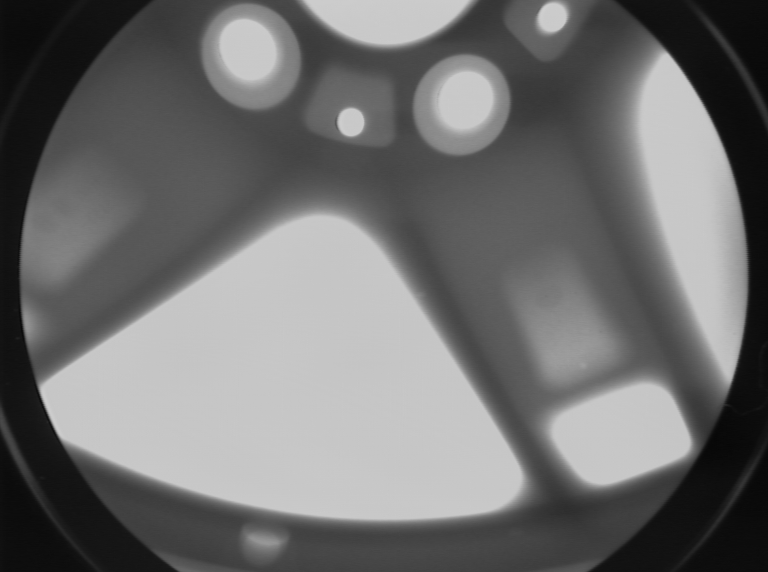defect: (411, 288, 434, 306)
